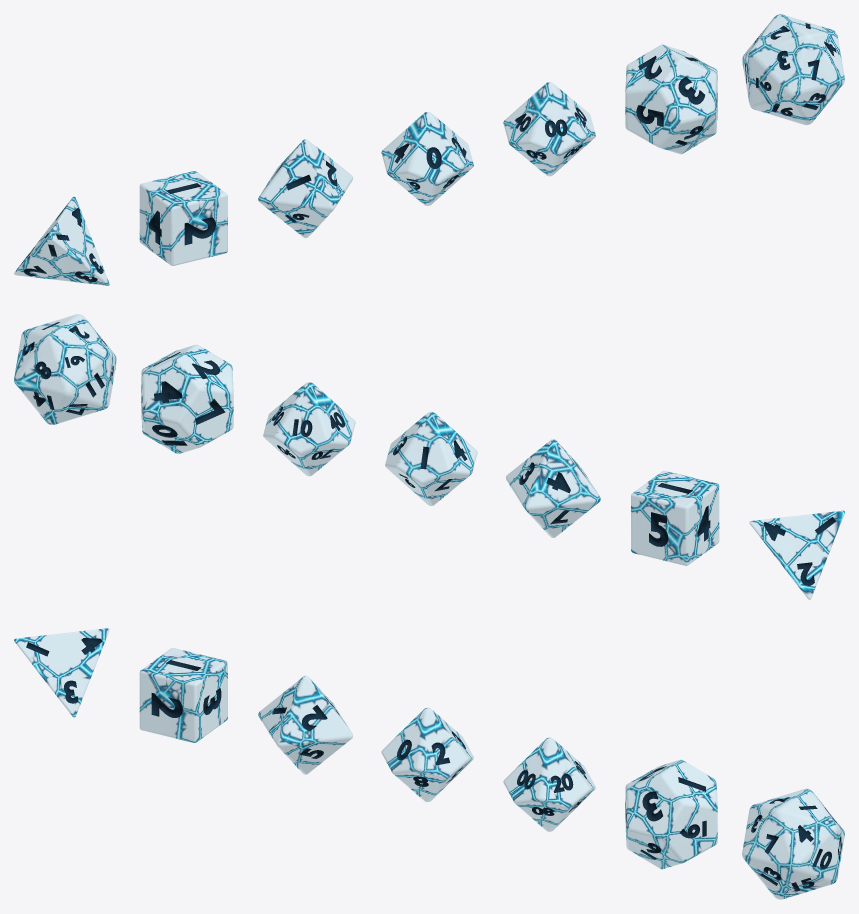
File: glacial-rift.glb
The picture shows the model from 3 angles, top to bottom: view 1: azimuth 30°, elevation 25°; view 2: azimuth 150°, elevation 25°; view 3: azimuth 330°, elevation 25°; orthographic projection.
Visible parts, largest first — view 1: d20, d12, d6, d100, d10, d8, d4; view 2: d20, d12, d6, d100, d10, d8, d4; view 3: d20, d12, d6, d8, d10, d100, d4.
Boxes of the visible parts, box(x1,y1,x2,y2) form: d20: box(742, 14, 844, 125); d12: box(625, 44, 717, 154); d6: box(139, 171, 227, 265); d100: box(503, 82, 595, 176); d10: box(381, 111, 473, 205); d8: box(258, 139, 352, 238); d4: box(14, 196, 109, 285); d20: box(14, 314, 116, 424); d12: box(141, 344, 233, 453); d6: box(631, 470, 719, 565); d100: box(263, 382, 355, 476); d10: box(385, 411, 477, 505); d8: box(506, 439, 600, 537); d4: box(749, 510, 844, 599); d20: box(742, 788, 844, 899); d12: box(625, 759, 717, 869); d6: box(139, 648, 227, 742); d8: box(258, 675, 352, 774); d10: box(381, 708, 473, 802); d100: box(503, 737, 595, 831); d4: box(14, 628, 109, 717).
Bounding box in the file's own units: 21.14 × 2.46 × 2.46.
Materials: 14 (7 with a texture image).
